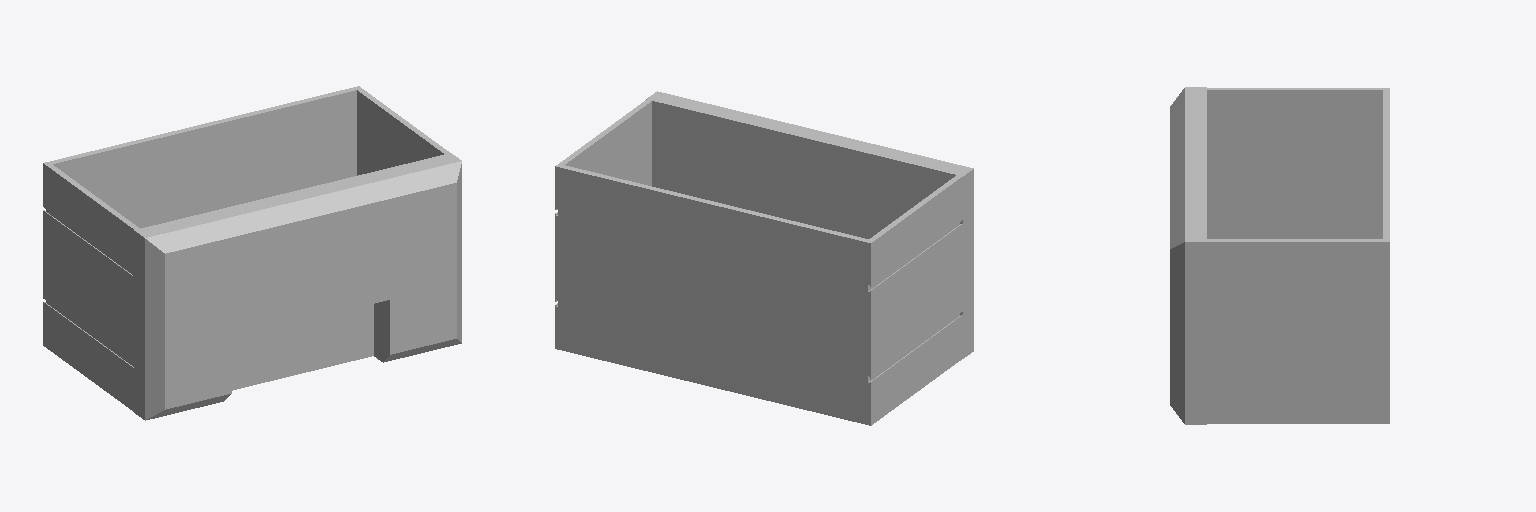
Rendered from deskdrawer.obj.
The picture shows the model from 3 angles: view 1: azimuth 30°, elevation 25°; view 2: azimuth 150°, elevation 25°; view 3: azimuth 270°, elevation 25°; orthographic projection.
Visible parts, largest first — view 1: Mesh12_Drawer1_Model; view 2: Mesh12_Drawer1_Model; view 3: Mesh12_Drawer1_Model.
Boxes of the visible parts, <box> form: Mesh12_Drawer1_Model: <box>43,86,461,420</box>; Mesh12_Drawer1_Model: <box>555,91,973,425</box>; Mesh12_Drawer1_Model: <box>1170,87,1389,424</box>.
Bounding box in the file's own units: 500 × 275 × 300.